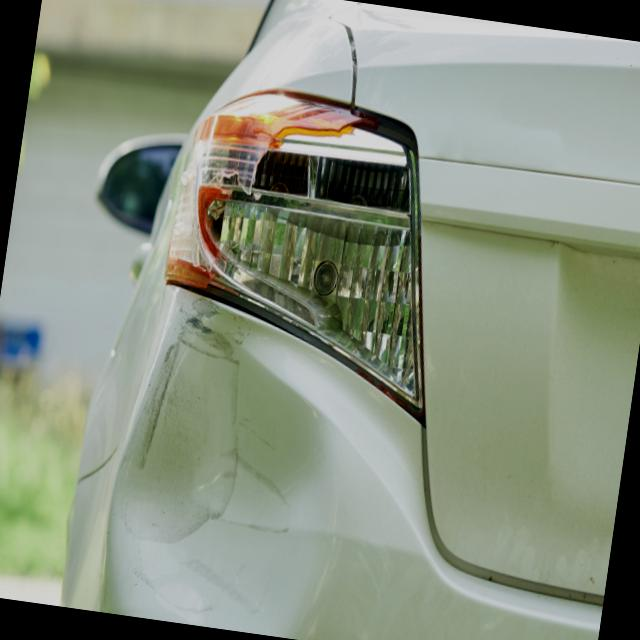Cabossage: (99, 315, 355, 640)
Phare abime: (183, 84, 468, 413)
Rayure: (112, 288, 308, 598)
